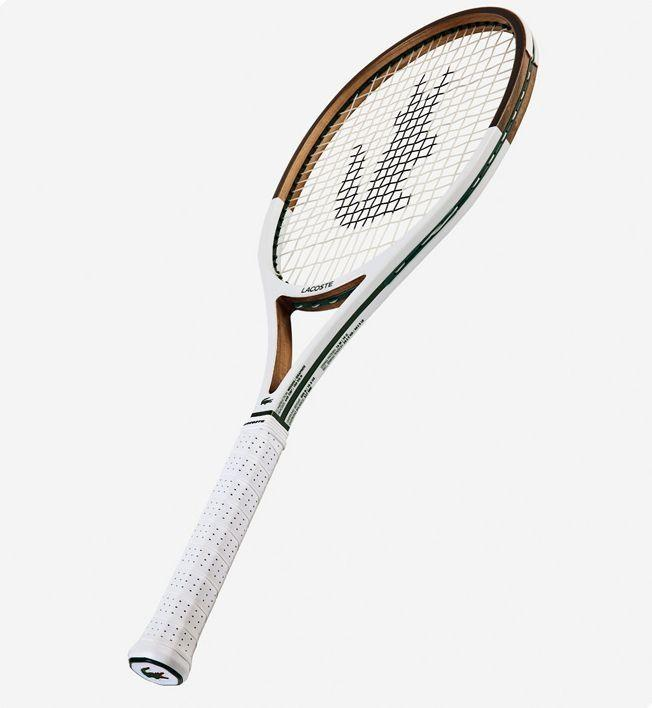Tennis-Racket: (131, 14, 524, 686)
